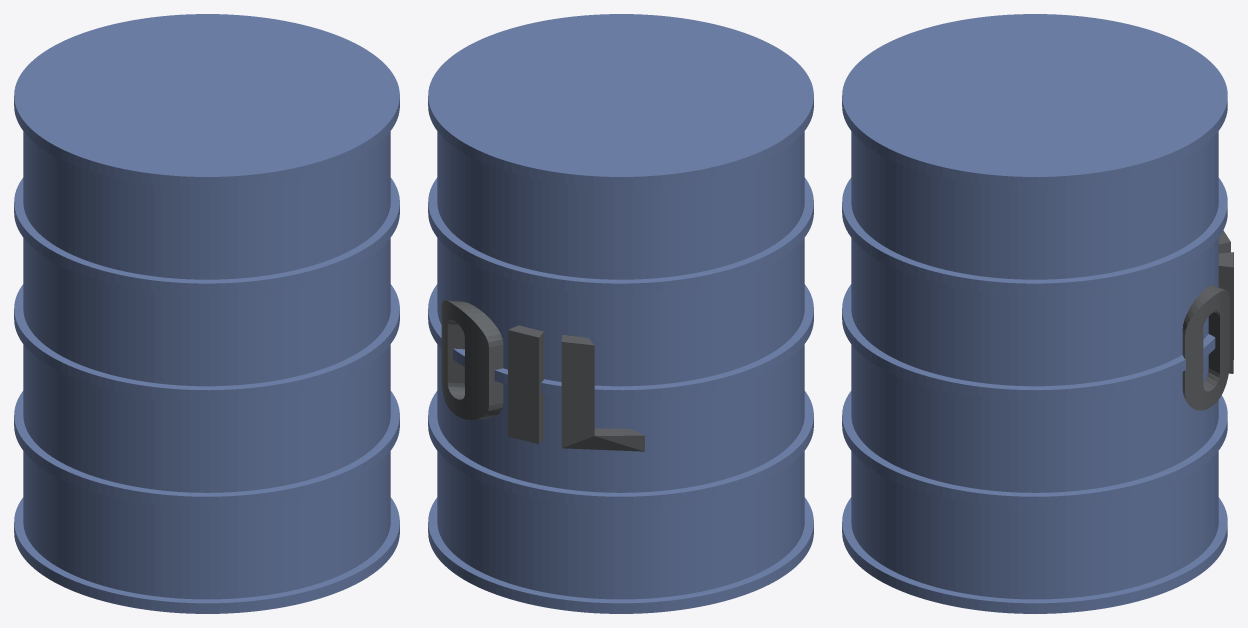
Rendered from Oil.glb.
3 renders of one model, left to right at view 1: azimuth 30°, elevation 25°; view 2: azimuth 150°, elevation 25°; view 3: azimuth 270°, elevation 25°, orthographic.
Visible parts, largest first — view 1: Mesh_Mesh_head_geo.001_lambert2SG.001; view 2: Mesh_Mesh_head_geo.001_lambert2SG.001; view 3: Mesh_Mesh_head_geo.001_lambert2SG.001.
Boxes of the visible parts, x1,y1,x2,y2 form: Mesh_Mesh_head_geo.001_lambert2SG.001: (14, 14, 399, 613); Mesh_Mesh_head_geo.001_lambert2SG.001: (428, 14, 813, 613); Mesh_Mesh_head_geo.001_lambert2SG.001: (842, 14, 1233, 613).
Size of the model in its own units: 0.016 by 0.02 by 0.0162.
